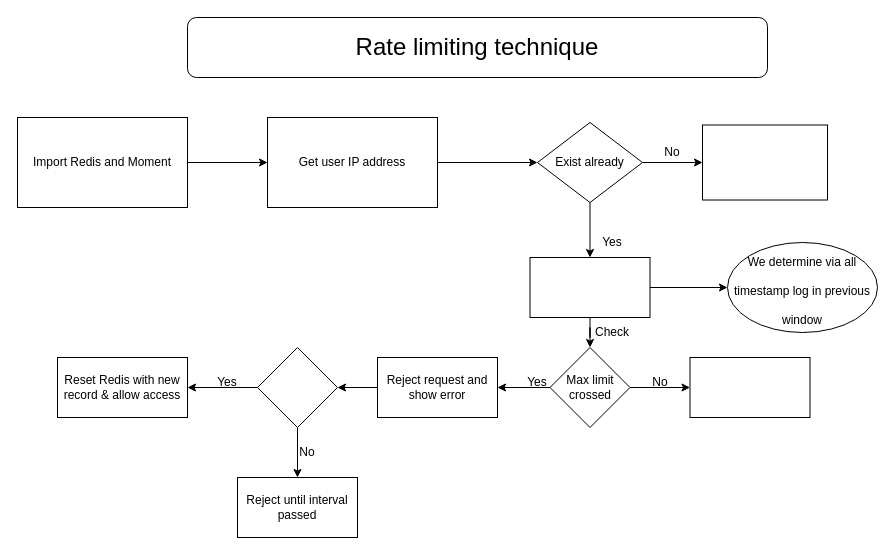
Some shapes in this 895 by 555 pixel diagram are drawn without their labels. The shapes that lost their labels are listed below. From the top down, each one's centre as x and y in pixels, then its label:
At point (765, 162): "Store new record with counter 1 and IP address & allow to access".
At point (589, 287): "Retrieve user counter value hit in last Window".
At point (297, 387): "Interval passed".
At point (749, 387): "Log new entry in Redis & allow it to access".
